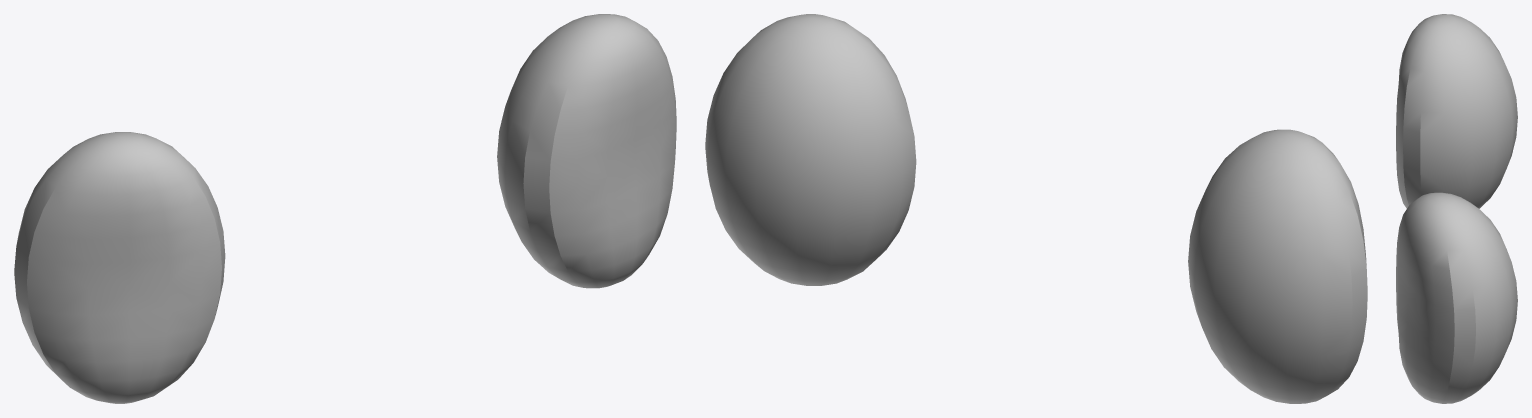
Rendered from Eye.obj.
The picture shows the model from 3 angles, left to right: view 1: azimuth 30°, elevation 25°; view 2: azimuth 150°, elevation 25°; view 3: azimuth 270°, elevation 25°; orthographic projection. The views are drawn at different scales.
Visible parts, largest first — view 1: P_Eye; view 2: P_Eye; view 3: P_Eye.
Boxes of the visible parts, <box> form: P_Eye: <box>14,14,676,403</box>; P_Eye: <box>705,14,1367,403</box>; P_Eye: <box>1396,14,1517,403</box>.
Bounding box in the file's own units: 1.05 × 0.405 × 0.2227.
Materials: 1 (1 with a texture image).
